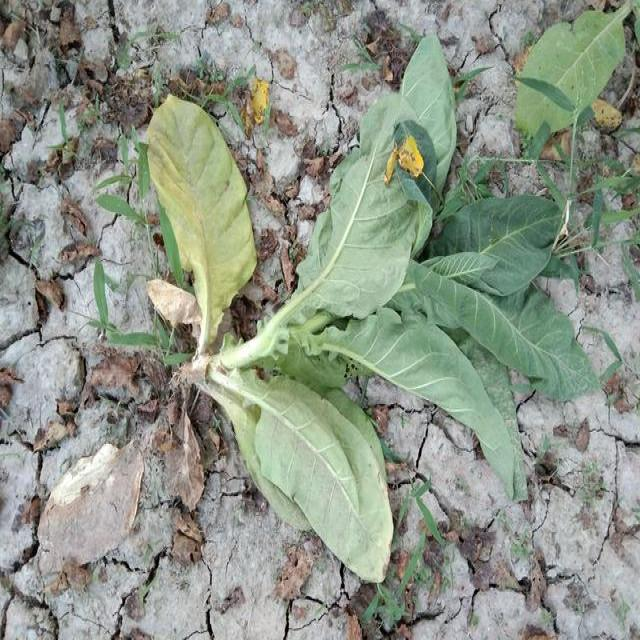crop: (75, 35, 597, 588)
